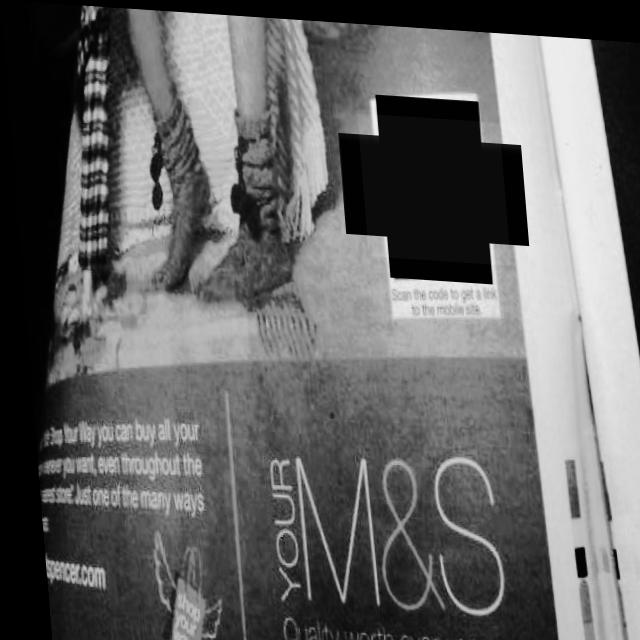qr_code: (356, 108, 507, 259)
